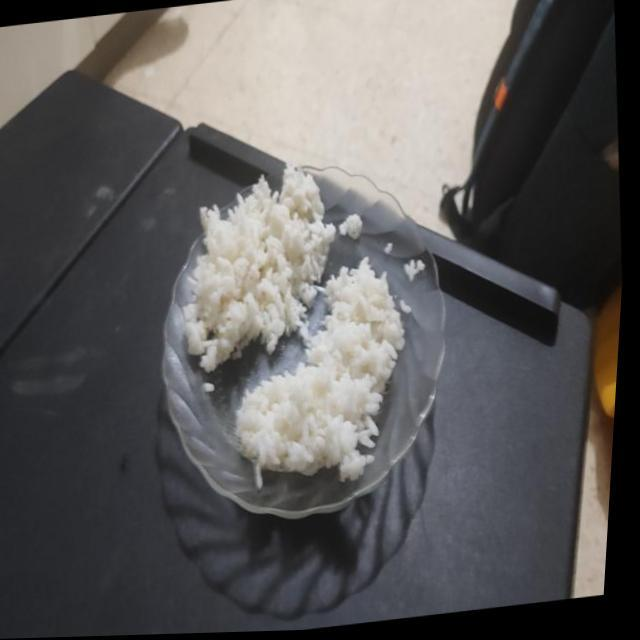nasi_putih: (235, 256, 404, 486), (182, 166, 336, 372)
